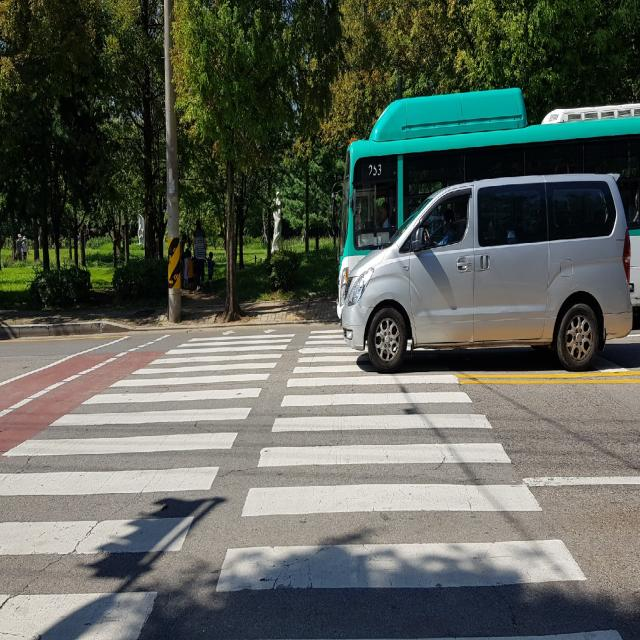횡단보도: (0, 324, 626, 640)
